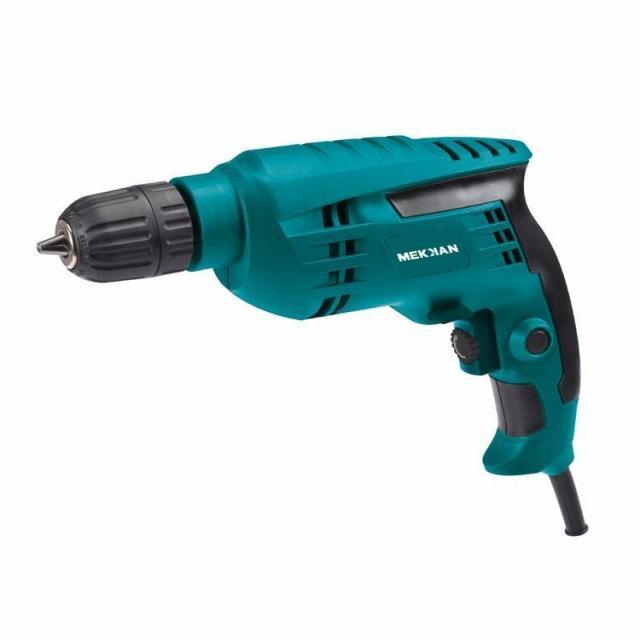drill: (35, 135, 590, 538)
